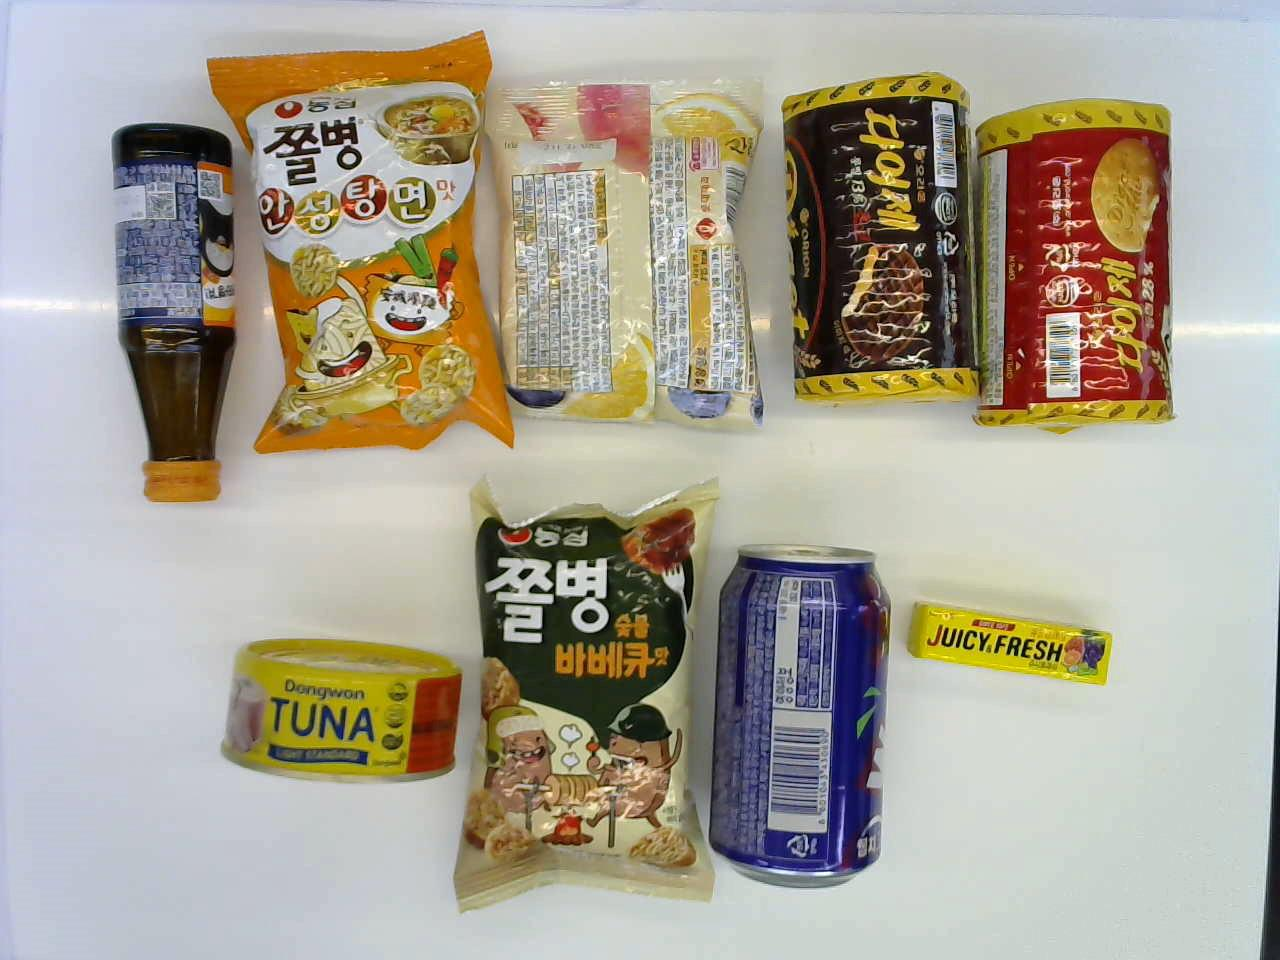diget_choco: (777, 71, 972, 410)
diget_ori: (977, 95, 1172, 435)
gumi_gumi: (498, 71, 762, 428)
jjolbyung_noodle: (206, 29, 517, 467)
jjolbyung_ori: (456, 477, 727, 910)
juicyfresh: (905, 583, 1111, 701)
tuna: (223, 622, 465, 790)
vita500: (92, 114, 253, 514)
welchs: (703, 545, 904, 897)
